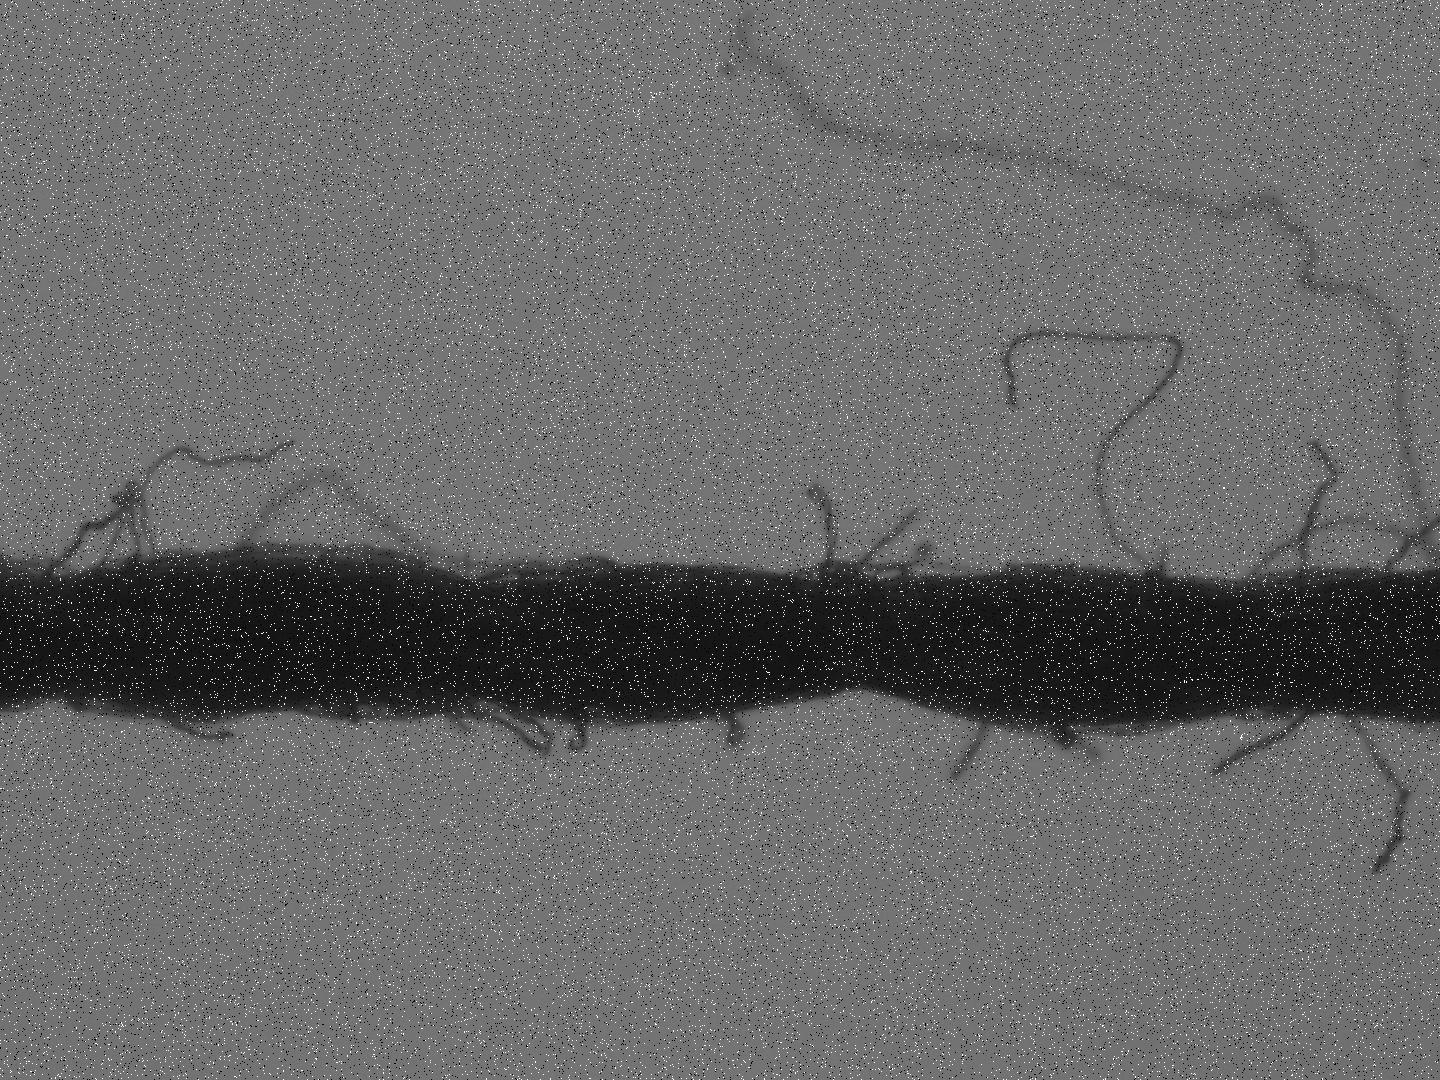loop_fiber: (1240, 513, 1431, 585), (39, 500, 143, 580), (98, 484, 161, 577), (315, 699, 468, 726), (782, 559, 872, 594), (473, 568, 590, 589), (871, 560, 917, 590), (1223, 708, 1288, 728)
protruding_fiber: (1002, 330, 1179, 577), (1344, 711, 1409, 877), (1208, 708, 1313, 775), (950, 717, 985, 790), (153, 714, 235, 743), (811, 483, 836, 572)
